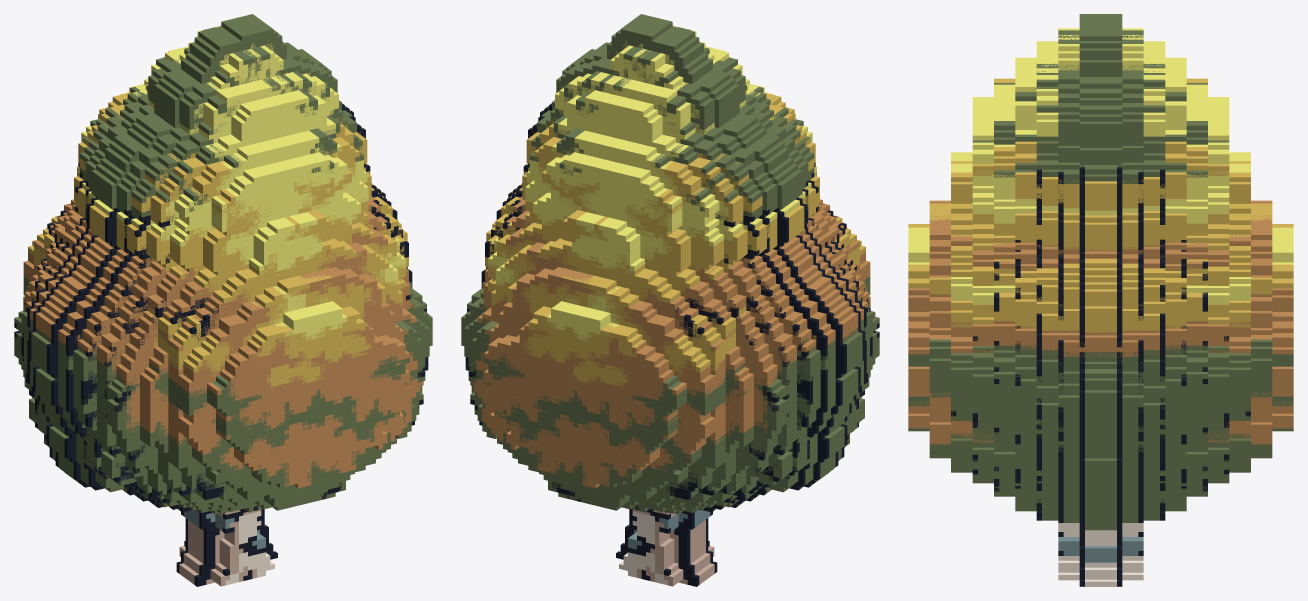
Rendered from Tree4.glb.
3 views of the same model, side by side, from view 1: azimuth 30°, elevation 25°; view 2: azimuth 150°, elevation 25°; view 3: azimuth 270°, elevation 25° (orthographic). The views are drawn at different scales.
Parts seen in each view (by area): view 1: q0, q1, q2, q5, q4, q6, q7, q3; view 2: q0, q1, q2, q4, q5, q6, q7, q3; view 3: q2, q4, q1, q3, q0, q5, q7.
Part boxes in pixels (x1,y1,x2,y2): q0: (14, 17, 425, 586); q1: (28, 35, 423, 511); q2: (23, 34, 429, 511); q5: (23, 55, 423, 510); q4: (24, 14, 432, 527); q6: (14, 45, 420, 511); q7: (14, 40, 423, 514); q3: (24, 29, 432, 501); q0: (468, 17, 879, 586); q1: (468, 35, 865, 512); q2: (464, 34, 870, 511); q4: (461, 14, 874, 524); q5: (472, 42, 870, 509); q6: (470, 66, 879, 512); q7: (470, 41, 879, 514); q3: (461, 30, 869, 498); q2: (908, 81, 1293, 530); q4: (908, 27, 1293, 525); q1: (908, 78, 1293, 480); q3: (908, 41, 1293, 509); q0: (908, 14, 1293, 586); q5: (908, 101, 1293, 515); q7: (908, 312, 1293, 422).
Bounding box in the file's own units: 81 × 115 × 72.
Materials: 1 (1 with a texture image).
